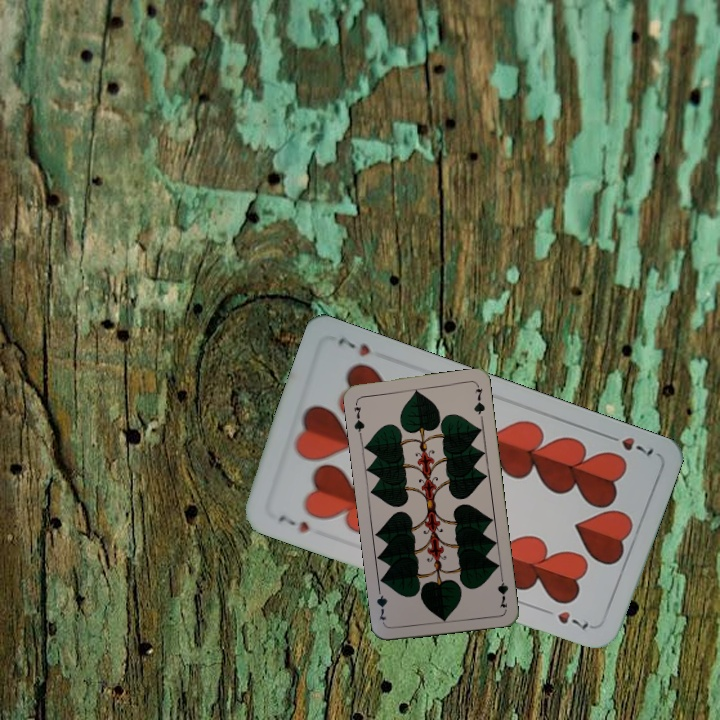G7: (493, 570, 511, 610), (350, 398, 367, 438)
H7: (601, 429, 656, 459), (274, 510, 312, 536)
